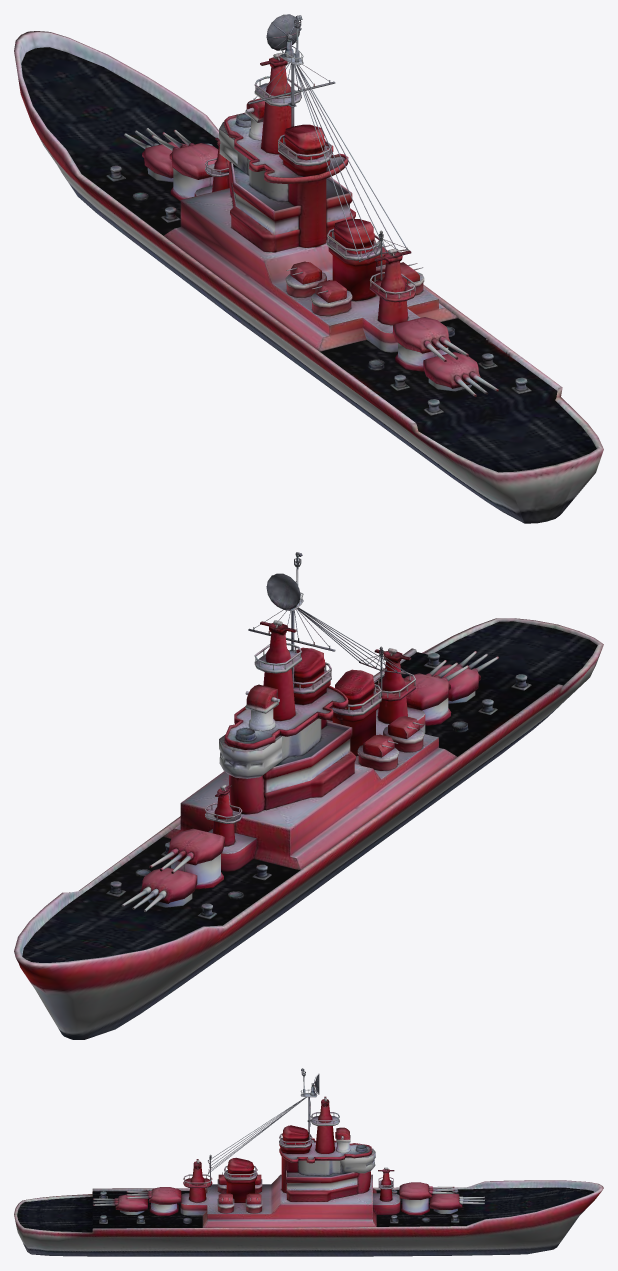
File: Cruiser.glb
3 views of the same model, one above another, from view 1: azimuth 30°, elevation 25°; view 2: azimuth 150°, elevation 25°; view 3: azimuth 270°, elevation 25° (orthographic). The views are drawn at different scales.
Visible parts, largest first — view 1: 2; view 2: 2; view 3: 2.
Part boxes in pixels (<box>): 2: <box>14,14,603,523</box>; 2: <box>14,552,603,1039</box>; 2: <box>14,1068,603,1256</box>.
Size of the model in its own units: 7.26 by 15.01 by 44.24.
Materials: 2 (2 with a texture image).
